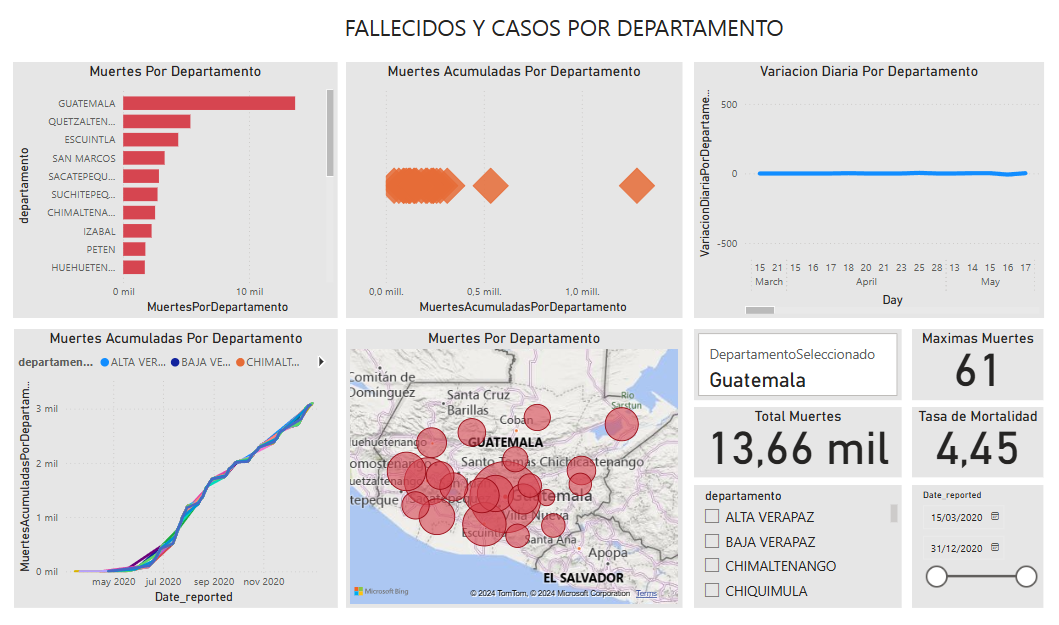

The dashboard page shown, as its layout file describes it:
{"tool":"powerbi","page":{"name":"Dashboard2","canvas":[1280,720],"ordinal":1},"visuals":[{"type":"clusteredBarChart","title":"Muertes Por Departamento","fields":{"Category":["departamento.departamento"],"Y":["reporte_nacional.Total_Muertes_Departamento"]},"box":[33.3,71.3,382.7,302],"z":0},{"type":"scatterChart","title":"Muertes Acumuladas Por Departamento","fields":{"X":["departamento.MuertesAcumuladasPorDepartamento"],"Category":["departamento.departamento"]},"box":[425.3,71.3,396.7,302],"z":1000},{"type":"lineChart","title":"Muertes Acumuladas Por Departamento","fields":{"Category":["evento.Date_reported"],"Series":["departamento.departamento"],"Y":["reporte_nacional.MuertesAcumuladasPorDepartamento2"]},"box":[34,386,382,329.3],"z":2000},{"type":"map","title":"Muertes Por Departamento","fields":{"Category":["departamento.pais"],"Size":["reporte_nacional.MuertesPorDepartamento"]},"box":[425.3,386,396.7,329.3],"z":3000},{"type":"lineChart","title":"Variacion Diaria Por Departamento","fields":{"Y":["reporte_nacional.VariacionDiariaPorDepartamento"],"Category":["evento.fecha.Variation.Date Hierarchy.Month","evento.fecha.Variation.Date Hierarchy.Day"]},"box":[836,71.3,412.7,302],"z":4000},{"type":"cardVisual","title":"Departamento","fields":{"Data":["IndicadoresPorDepartamento2.DepartamentoSeleccionado"]},"box":[836,386,245.3,84],"z":5000},{"type":"card","title":"Maximas Muertes","fields":{"Values":["IndicadoresPorDepartamento2.MaximasMuertesPorDepartamento"]},"box":[1093.3,386,155.3,84],"z":6000},{"type":"card","title":"Tasa de Mortalidad","fields":{"Values":["IndicadoresPorDepartamento2.TasaMortalidadPorDepartamento2"]},"box":[1093.3,477.3,155.3,83.3],"z":7000},{"type":"card","title":"Total Muertes","fields":{"Values":["IndicadoresPorDepartamento2.TotalDeMuertes"]},"box":[836,477.3,245.3,83.3],"z":8000},{"type":"slicer","fields":{"Values":["departamento.departamento"]},"box":[836,570,245.3,145.3],"z":9000},{"type":"slicer","fields":{"Values":["reporte_nacional.Date_reported"]},"box":[1093.3,570,155.3,145.3],"z":10000},{"type":"textbox","box":[406.7,5.3,552,61.3],"z":11000}]}

Visuals, with their boxes on the page's 1280x720 design canvas (x1, y1, x2, y2). These are canvas units, not pixel positions in the 1059x625 screenshot, which may show the page scaled, cropped or inside an application window:
"Muertes Por Departamento" clusteredBarChart: detection(33, 71, 416, 373)
"Muertes Acumuladas Por Departamento" scatterChart: detection(425, 71, 822, 373)
"Muertes Acumuladas Por Departamento" lineChart: detection(34, 386, 416, 715)
"Muertes Por Departamento" map: detection(425, 386, 822, 715)
"Variacion Diaria Por Departamento" lineChart: detection(836, 71, 1249, 373)
"Departamento" cardVisual: detection(836, 386, 1081, 470)
"Maximas Muertes" card: detection(1093, 386, 1249, 470)
"Tasa de Mortalidad" card: detection(1093, 477, 1249, 561)
"Total Muertes" card: detection(836, 477, 1081, 561)
slicer - departamento.departamento: detection(836, 570, 1081, 715)
slicer - reporte_nacional.Date_reported: detection(1093, 570, 1249, 715)
textbox: detection(407, 5, 959, 67)
